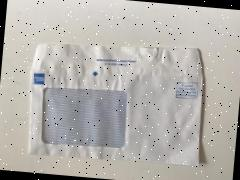paper: (4, 25, 240, 180)
